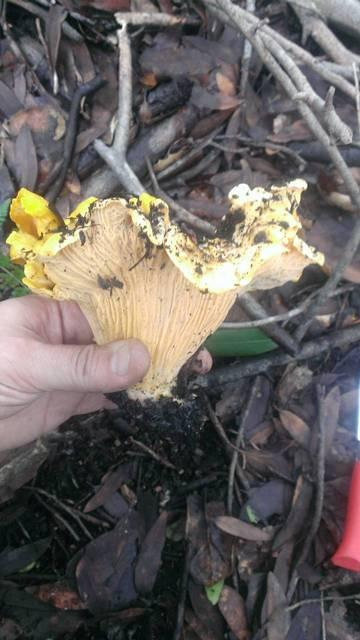edible_mushroom: (34, 176, 325, 405)
